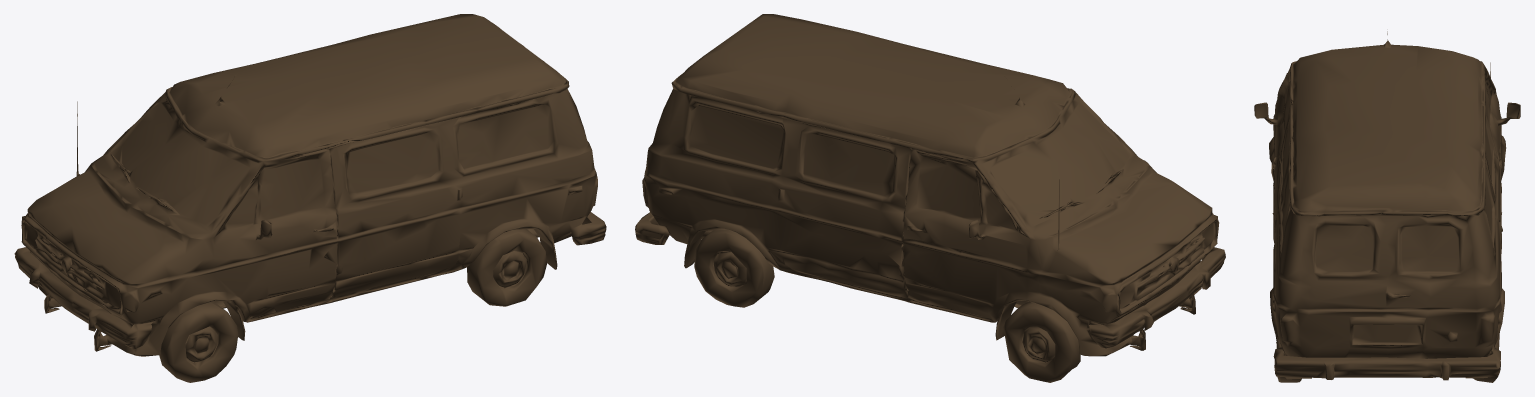
The model's file is car_minivan_light_q0.glb.
The picture shows the model from 3 angles, left to right: view 1: azimuth 30°, elevation 25°; view 2: azimuth 150°, elevation 25°; view 3: azimuth 270°, elevation 25°; orthographic projection.
Size of the model in its own units: 3.66 by 1.73 by 1.72.
Materials: 1 (1 with a texture image).
